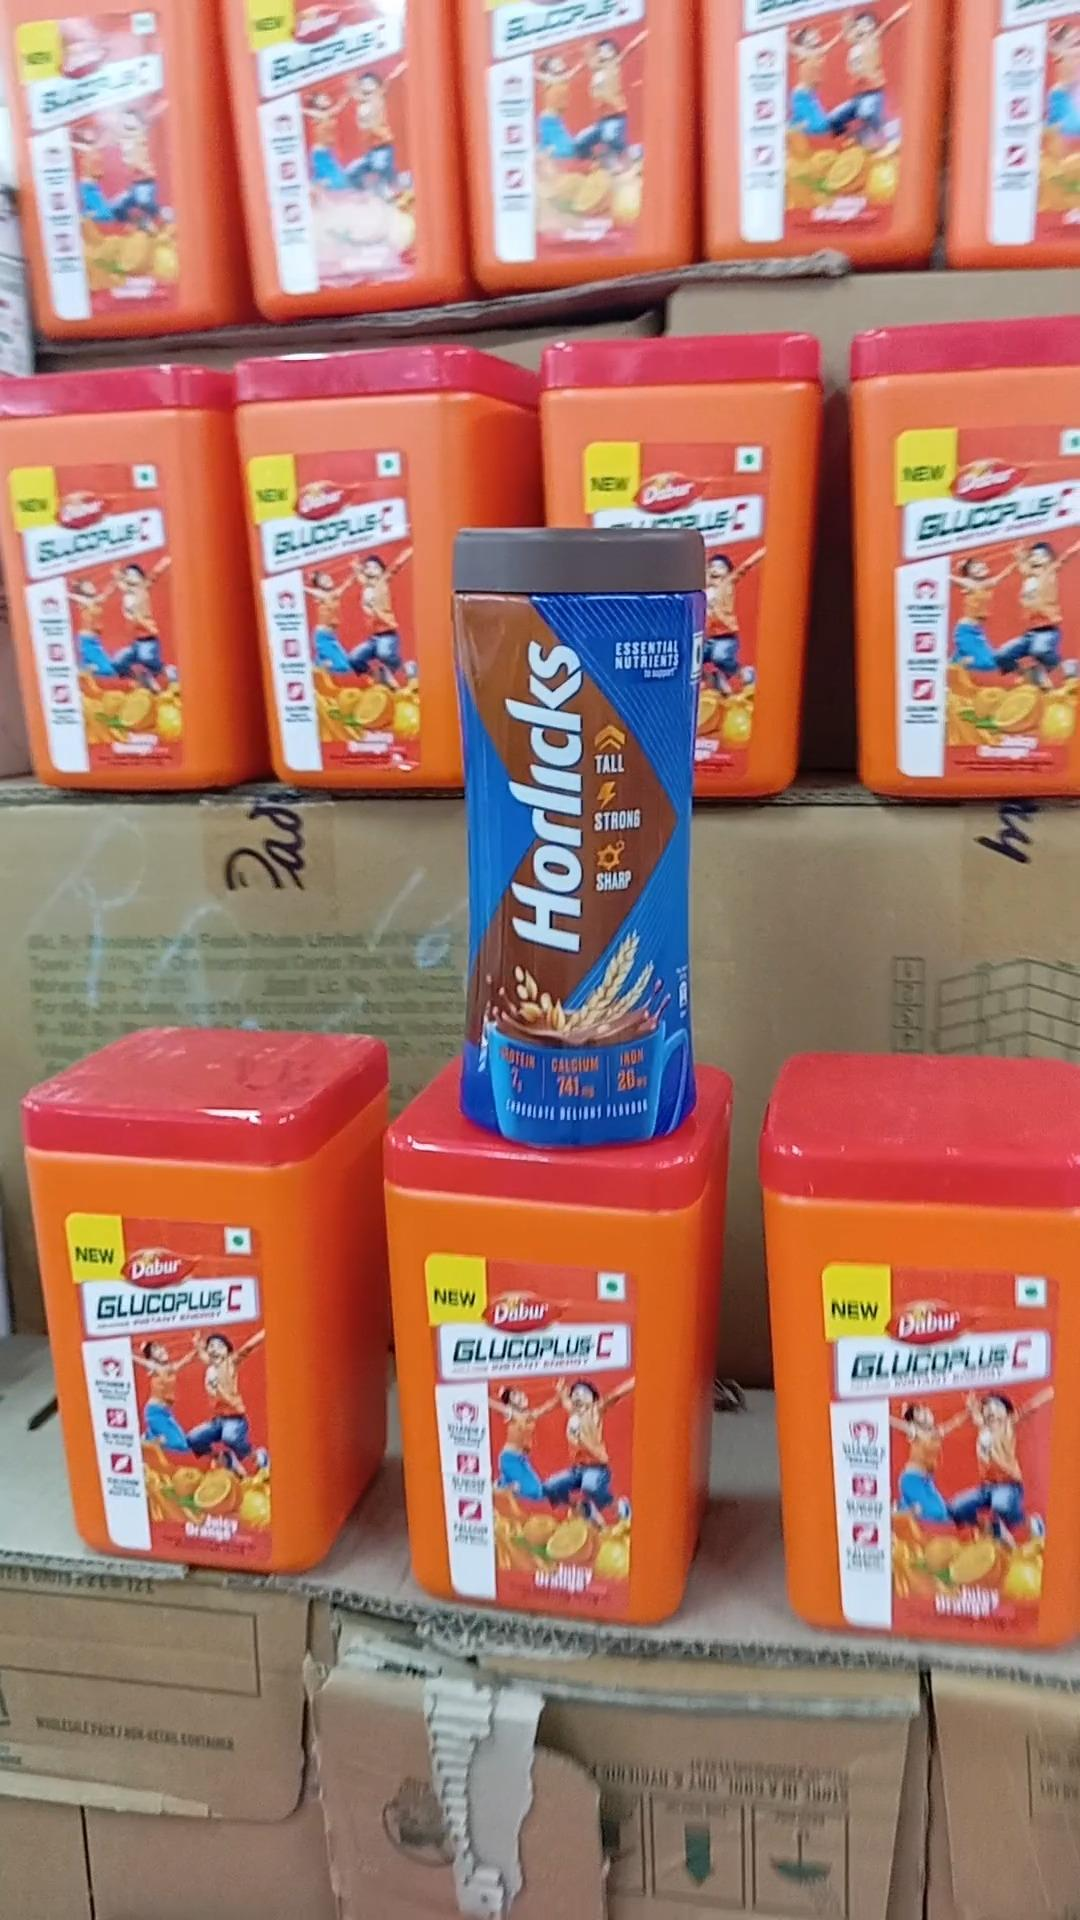HORLICK_CHOCOLATE_500_G_JAR: (451, 524, 700, 1134)
